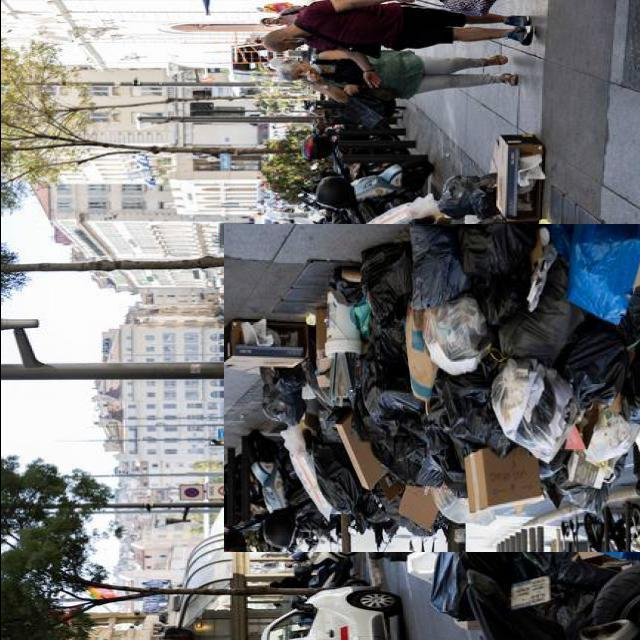Trashbag: (495, 303, 578, 361), (437, 377, 503, 449), (376, 420, 444, 487), (458, 222, 537, 276), (359, 244, 414, 320), (362, 339, 406, 423), (570, 336, 628, 394), (310, 450, 362, 507), (264, 371, 303, 423)
